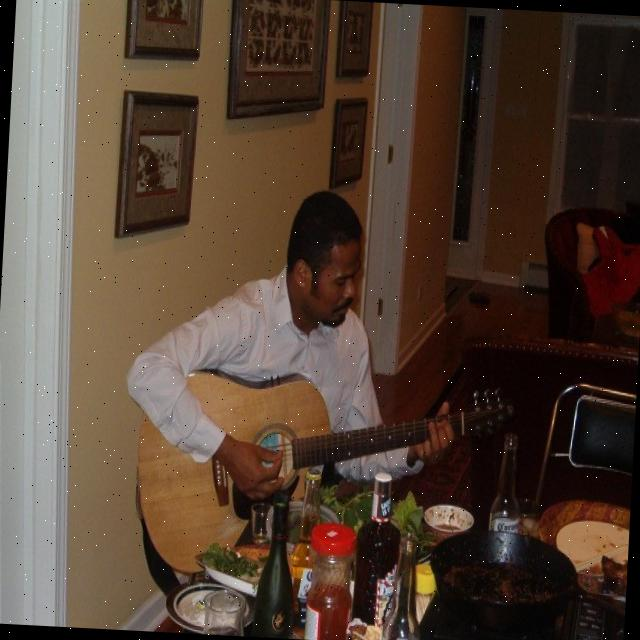guitar: (129, 361, 518, 597)
